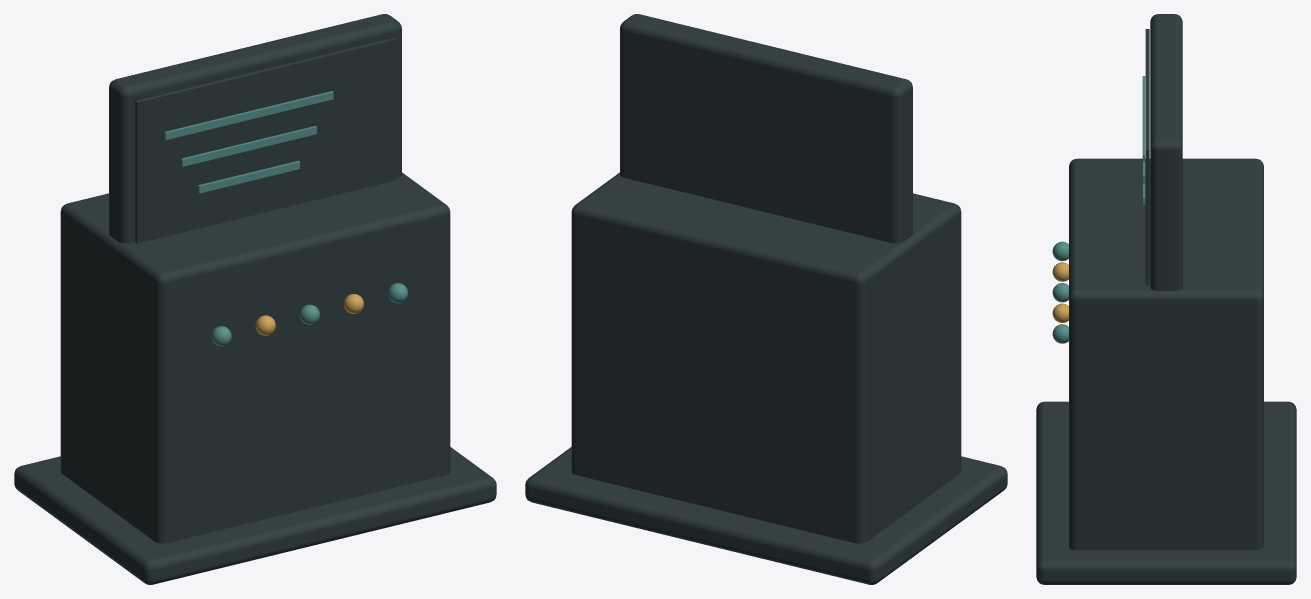
File: diagnostic.glb
3 views of the same model, side by side, from view 1: azimuth 30°, elevation 25°; view 2: azimuth 150°, elevation 25°; view 3: azimuth 270°, elevation 25° (orthographic). The views are drawn at different scales.
Visible parts, largest first — view 1: diagnostic; view 2: diagnostic; view 3: diagnostic.
Part boxes in pixels (left/top/right/bottom): diagnostic: left=14, top=14, right=496, bottom=584; diagnostic: left=525, top=14, right=1007, bottom=584; diagnostic: left=1036, top=14, right=1296, bottom=584.
Bounding box in the file's own units: 1.2 × 1.45 × 0.8.
